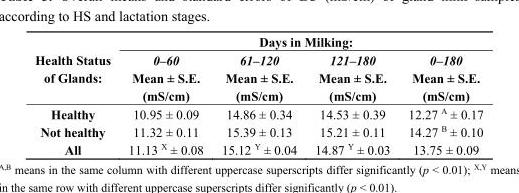table: (34, 34, 482, 156)
table column: (211, 34, 305, 156), (118, 34, 211, 156), (305, 34, 398, 156), (34, 34, 118, 156), (398, 34, 482, 156)
table column header: (34, 34, 482, 104)
table row: (34, 50, 482, 104), (34, 104, 482, 122), (34, 122, 482, 139), (34, 139, 482, 156), (34, 34, 482, 50)
table spanning cell: (34, 34, 118, 104), (118, 34, 482, 50)
